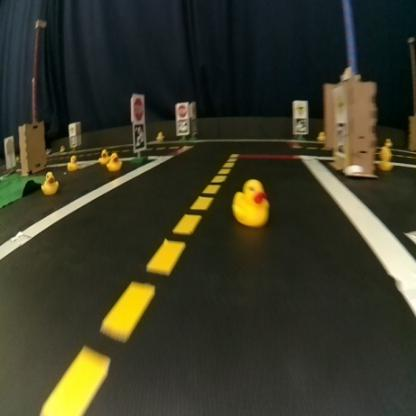duckie: (226, 171, 279, 234), (38, 164, 65, 206), (106, 150, 123, 174), (64, 151, 80, 170)
